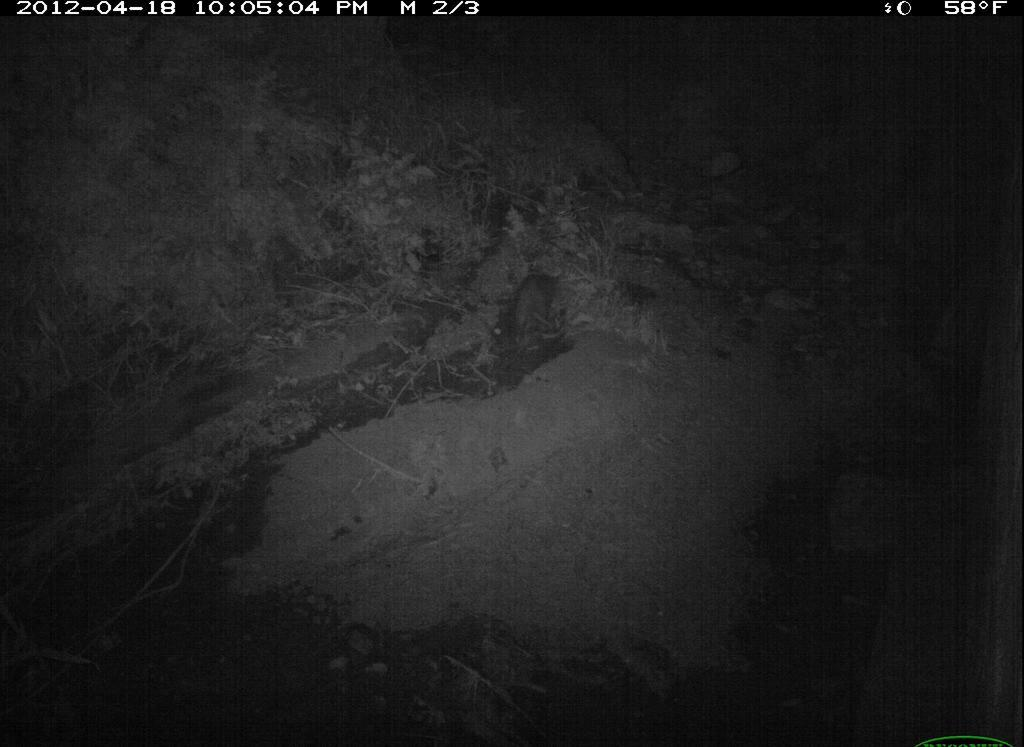opossum: (495, 264, 578, 350)
